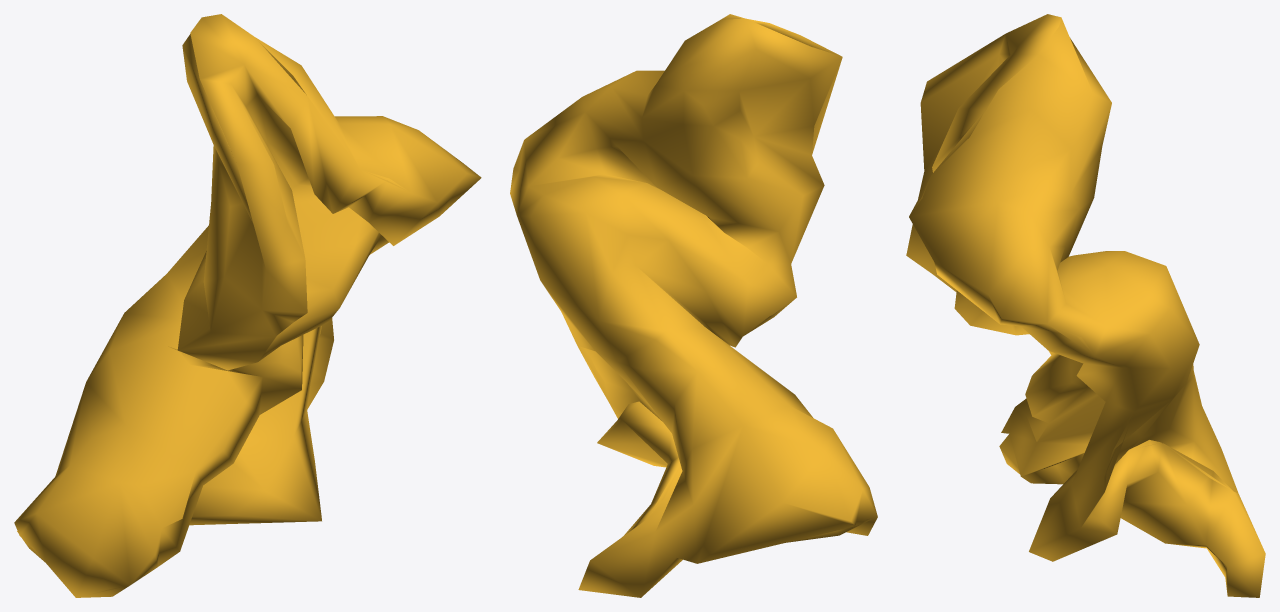
File: nervoso-superior-occipital-gyri-r.glb
3 renders of one model, left to right at view 1: azimuth 30°, elevation 25°; view 2: azimuth 150°, elevation 25°; view 3: azimuth 270°, elevation 25°, orthographic. The views are drawn at different scales.
Visible parts, largest first — view 1: Superior occipital gyri.r; view 2: Superior occipital gyri.r; view 3: Superior occipital gyri.r.
Boxes of the visible parts, x1,y1,x2,y2 form: Superior occipital gyri.r: (14, 14, 481, 597); Superior occipital gyri.r: (510, 14, 877, 597); Superior occipital gyri.r: (906, 14, 1265, 597).
Size of the model in its own units: 0.0295 by 0.0397 by 0.0238.
